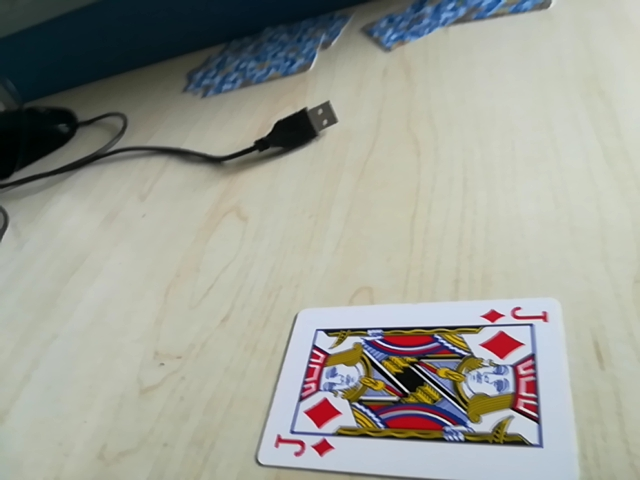fk j: (483, 301, 550, 328), (272, 436, 334, 465)
